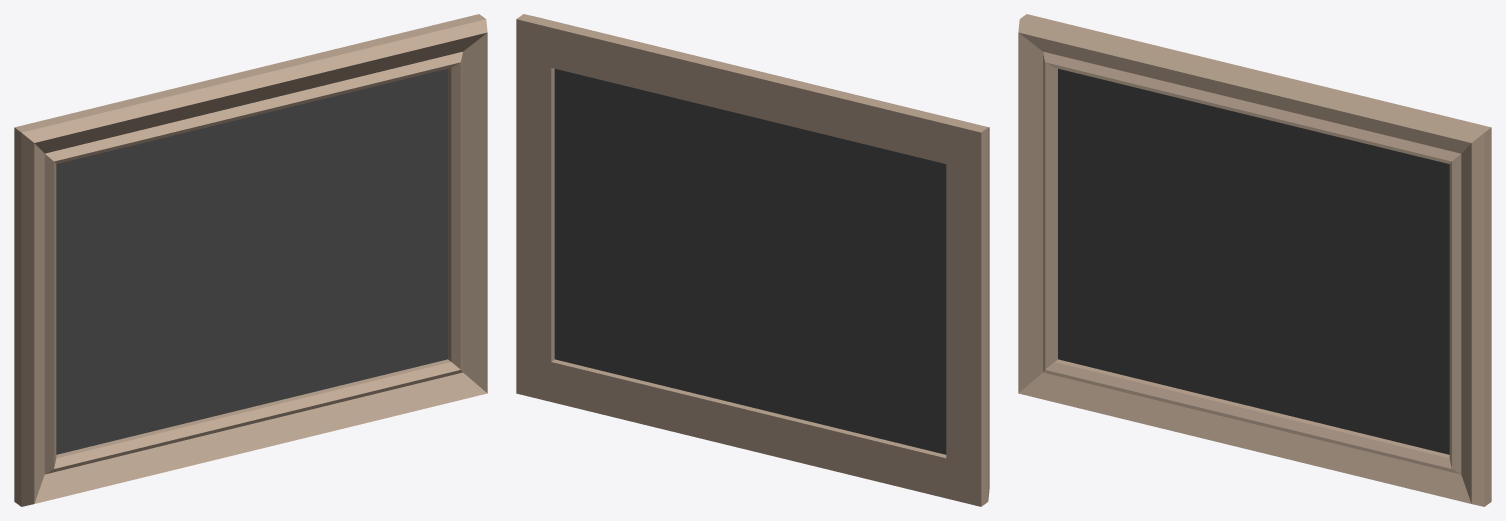
File: Portrait.fbx
The picture shows the model from 3 angles, left to right: view 1: azimuth 30°, elevation 25°; view 2: azimuth 150°, elevation 25°; view 3: azimuth 330°, elevation 25°; orthographic projection.
Parts seen in each view (by area): view 1: object1, object2; view 2: object1, object2; view 3: object1, object2.
Part boxes in pixels (left/top/right/bottom): object1: left=56, top=68, right=447, bottom=454; object2: left=14, top=14, right=487, bottom=506; object1: left=554, top=69, right=946, bottom=454; object2: left=516, top=14, right=989, bottom=506; object1: left=1058, top=68, right=1449, bottom=454; object2: left=1018, top=14, right=1491, bottom=506.
Size of the model in its own units: 94.46 by 72.69 by 5.
